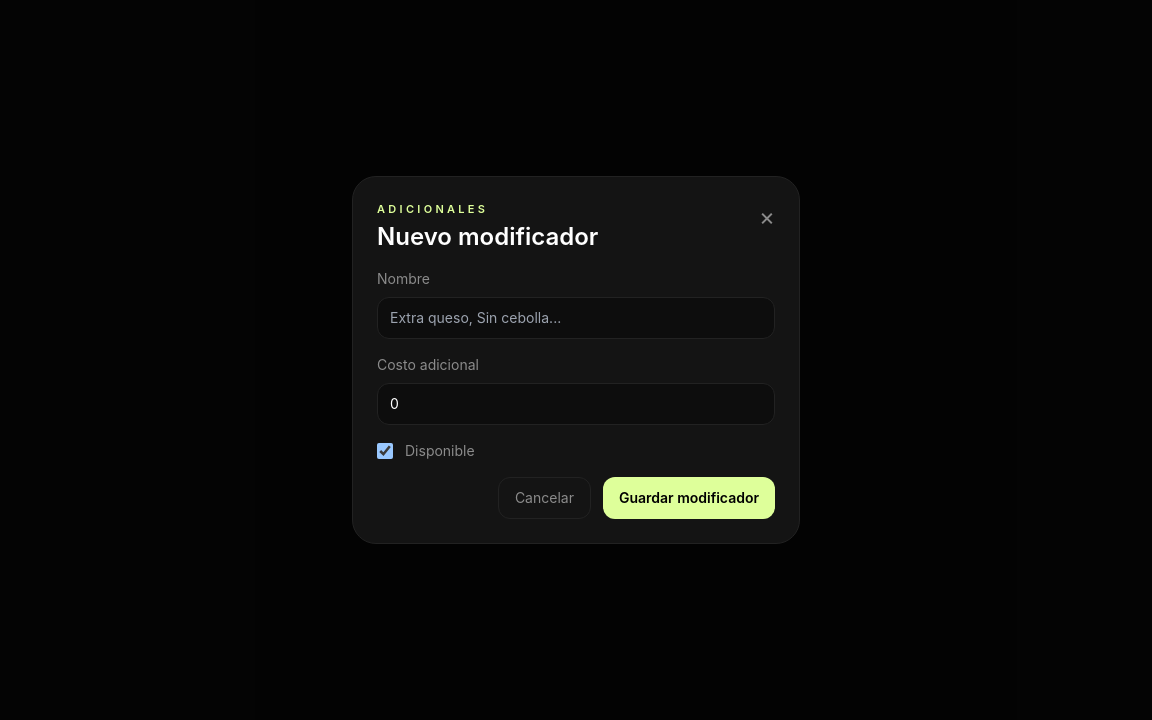
Scenario: ModifierFormModal › rejects a negative price delta
The image size is (1152, 720).
Type "Extra queso" into the field labelled "Nombre" at (576, 318), box [377,297,775,339]
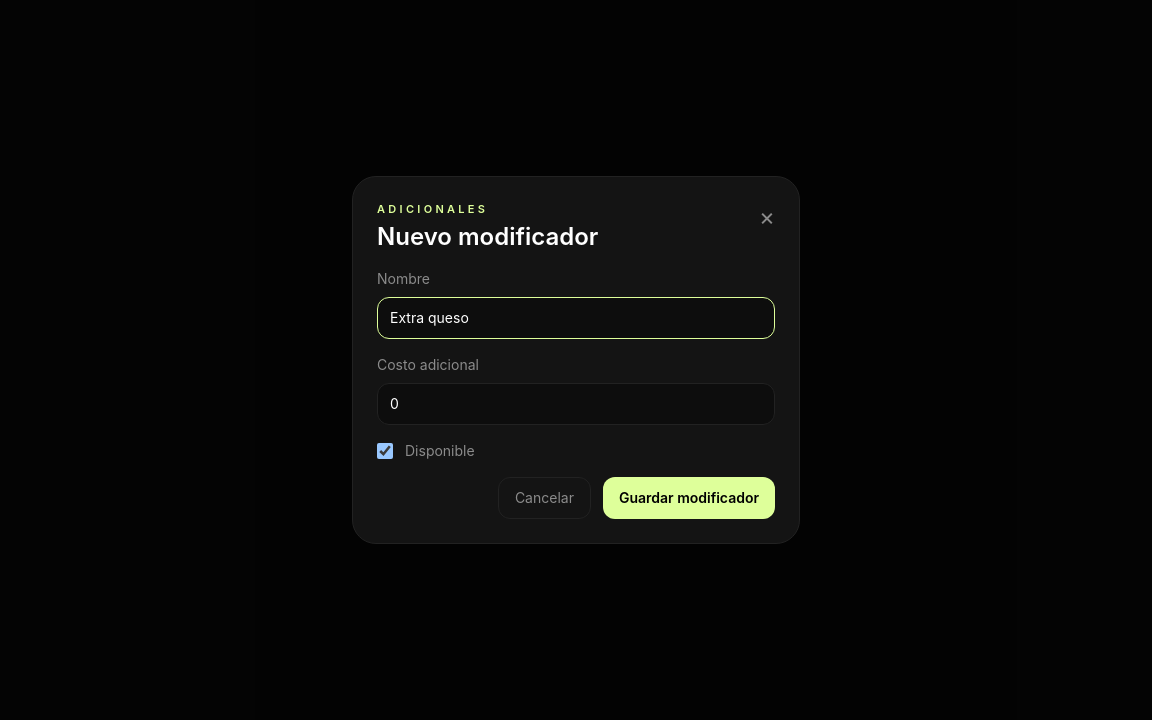
Replace the text in the number field labelled "Costo adicional" with "-100" at (576, 404), box [377,383,775,425]
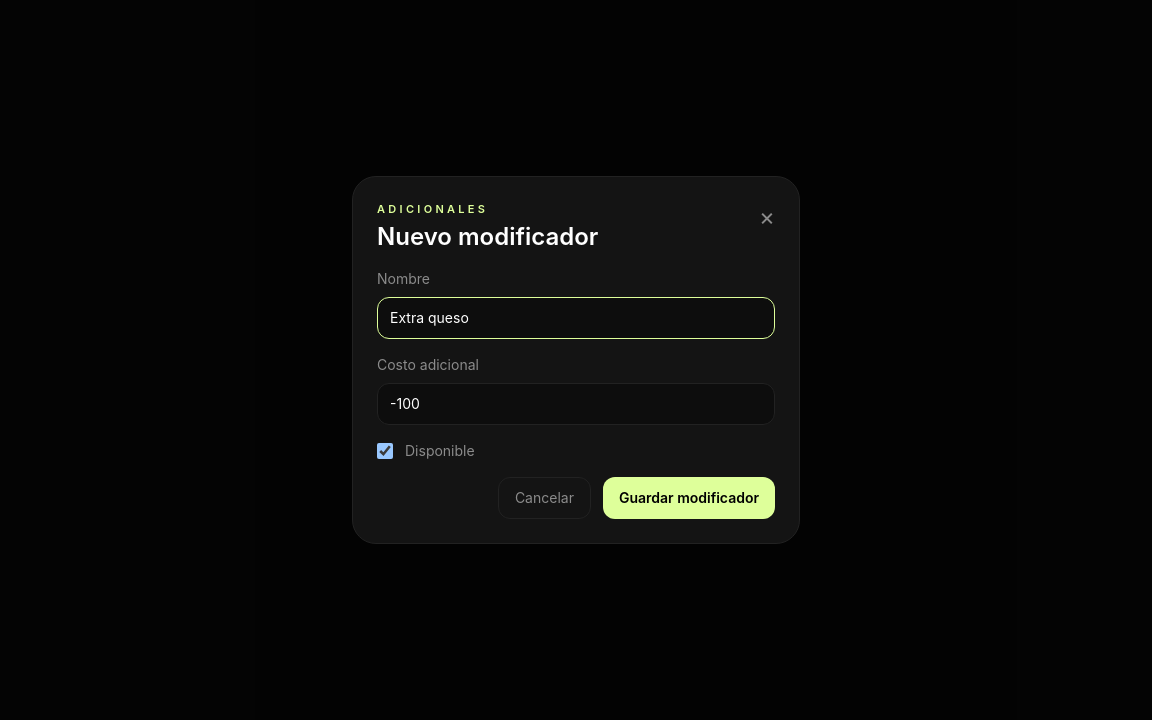
Click the button "Guardar modificador" at (689, 498), box [603,477,775,519]
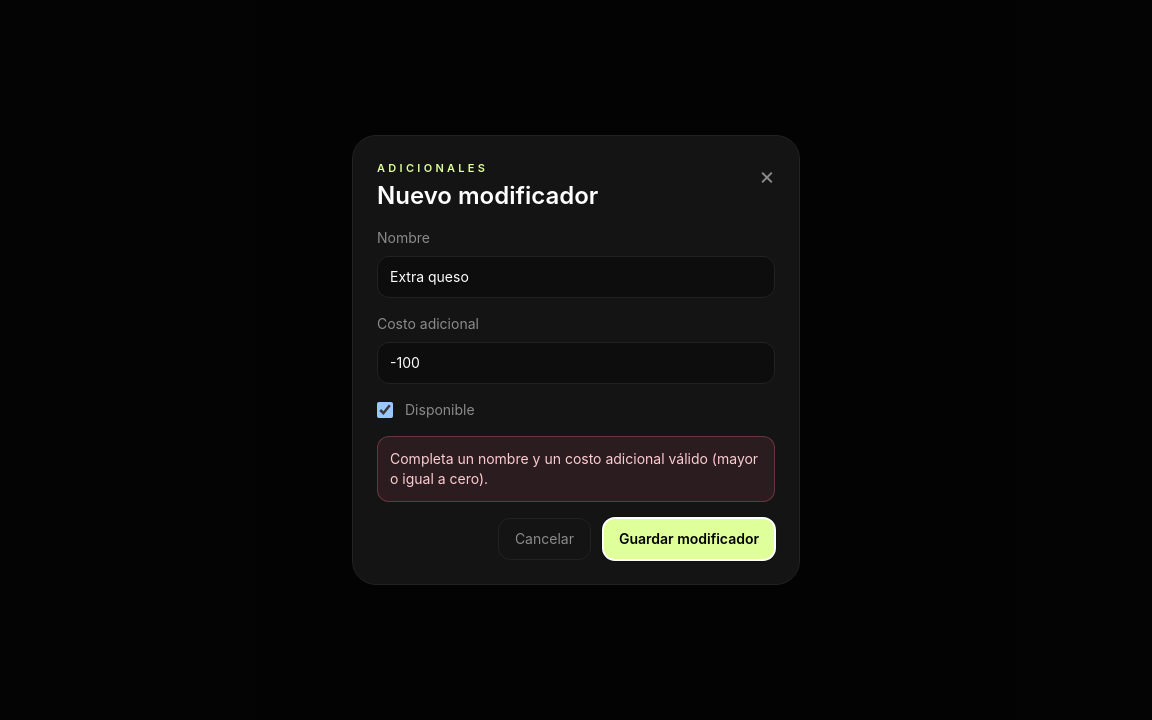
Expected: the text "costo adicional válido" is shown, [390,450,758,487]
